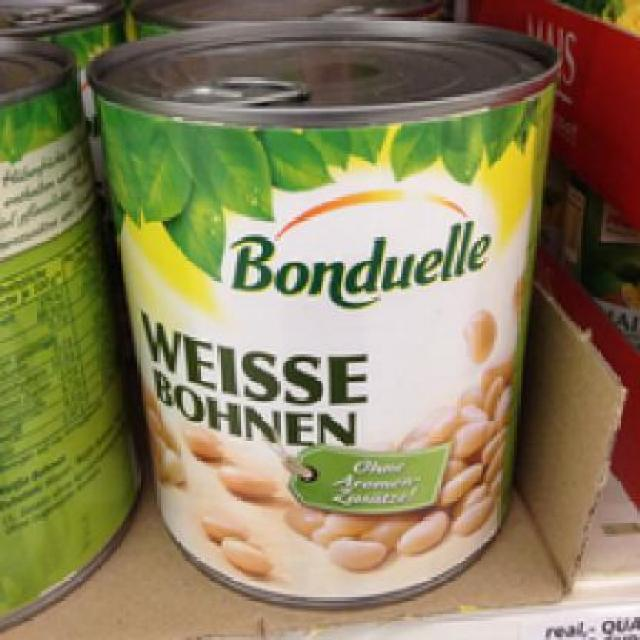Beans: (74, 14, 563, 603)
